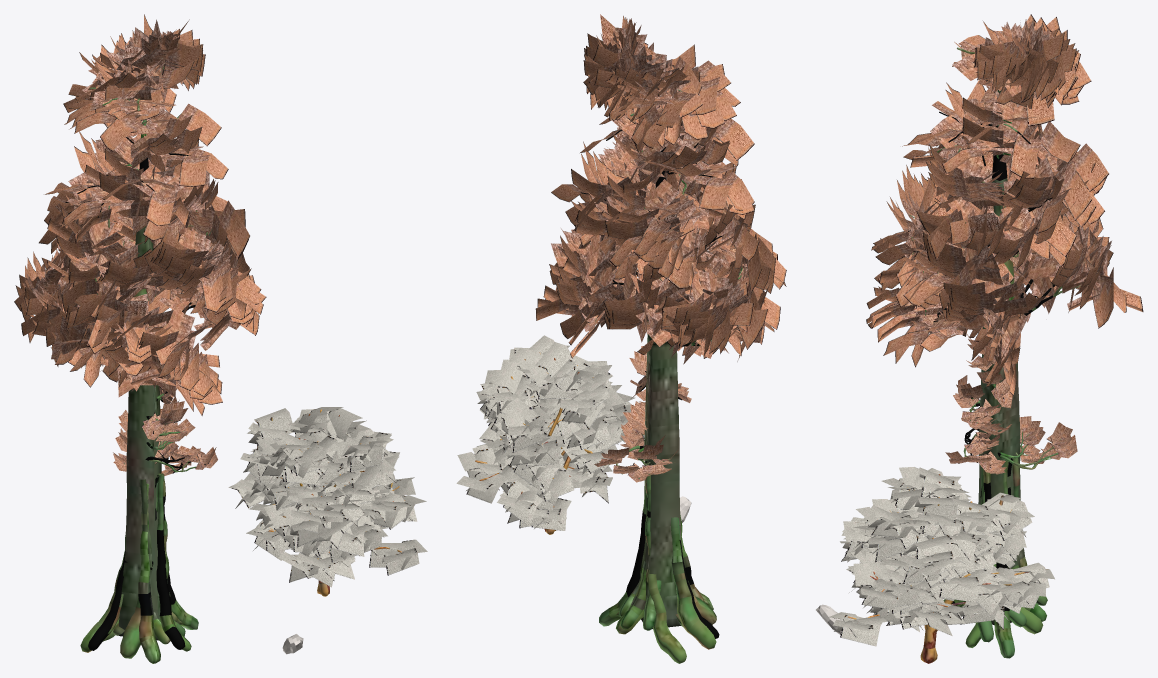
Rendered from natural_env_tiny3.gltf.
3 renders of one model, left to right at view 1: azimuth 30°, elevation 25°; view 2: azimuth 150°, elevation 25°; view 3: azimuth 270°, elevation 25°, orthographic. The views are drawn at different scales.
Visible parts, largest first — view 1: Bottom_T, Walnut_L.001; view 2: Bottom_T, Walnut_L.001; view 3: Bottom_T, Walnut_L.001.
Part boxes in pixels (x1,y1,x2,y2): Bottom_T: (14, 14, 266, 663); Walnut_L.001: (228, 407, 427, 596); Bottom_T: (535, 14, 786, 663); Walnut_L.001: (456, 335, 635, 534); Bottom_T: (866, 14, 1143, 658); Walnut_L.001: (829, 467, 1054, 663).
Size of the model in its own units: 26.63 by 47.09 by 22.17.
Materials: 3 (2 with a texture image).
